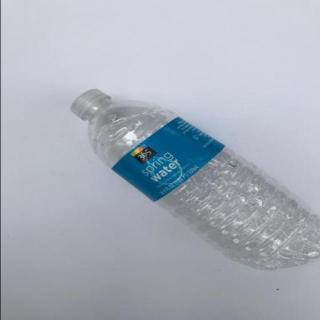Anorganik: (65, 82, 317, 276)
